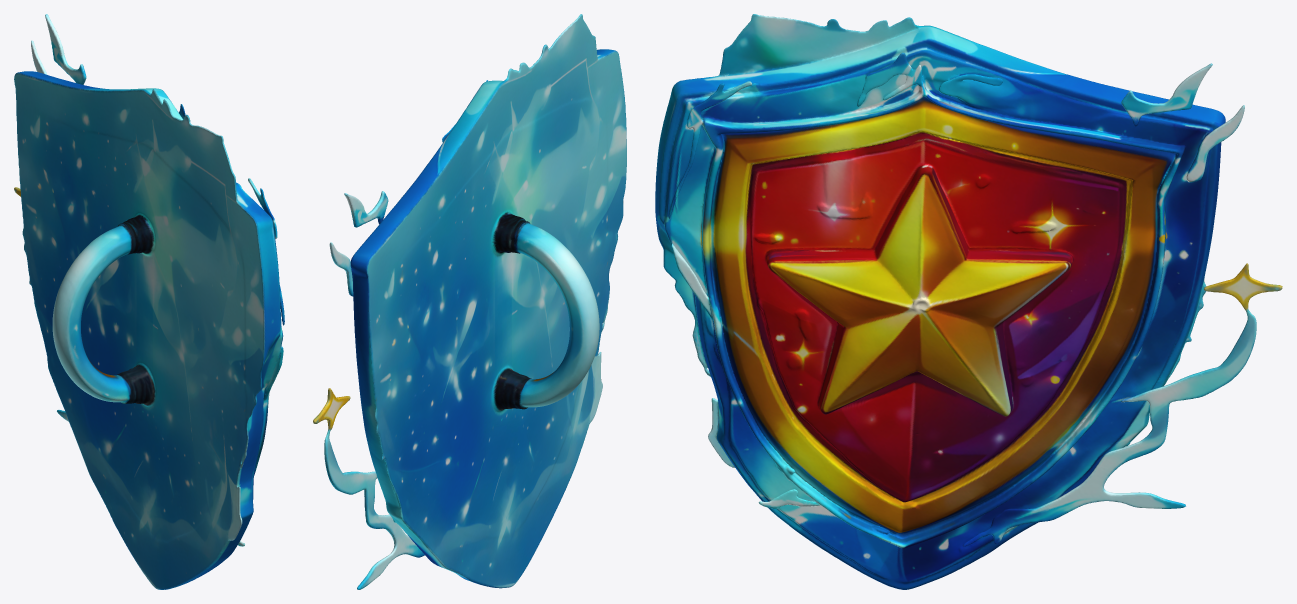
Rendered from Shield.fbx.
3 views of the same model, side by side, from view 1: azimuth 30°, elevation 25°; view 2: azimuth 150°, elevation 25°; view 3: azimuth 270°, elevation 25° (orthographic). The views are drawn at different scales.
Visible parts, largest first — view 1: tripo_node_c36447d5; view 2: tripo_node_c36447d5; view 3: tripo_node_c36447d5.
Part boxes in pixels (<box>): tripo_node_c36447d5: <box>14,14,284,589</box>; tripo_node_c36447d5: <box>313,14,626,589</box>; tripo_node_c36447d5: <box>655,14,1282,589</box>.
Bounding box in the file's own units: 31.18 × 99.73 × 100.
